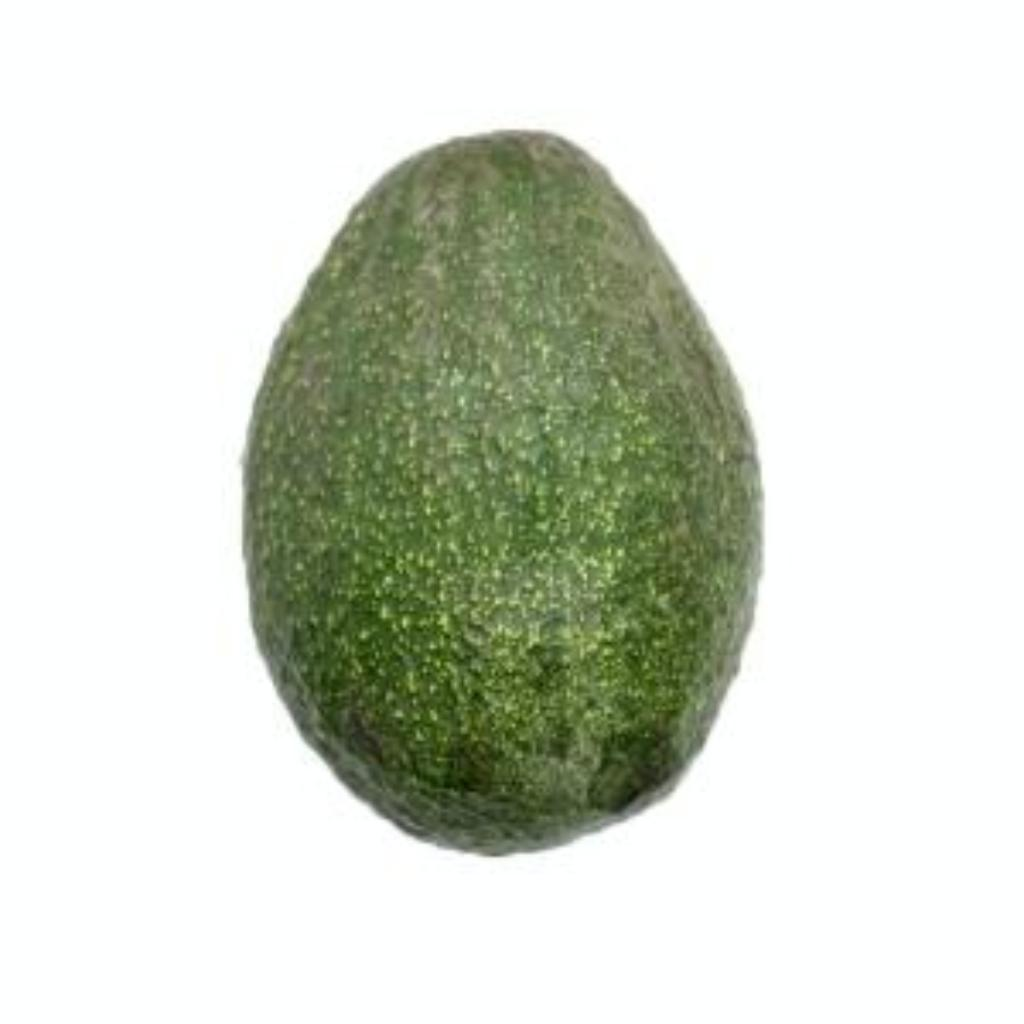cercospora_spot: (241, 120, 777, 850)
